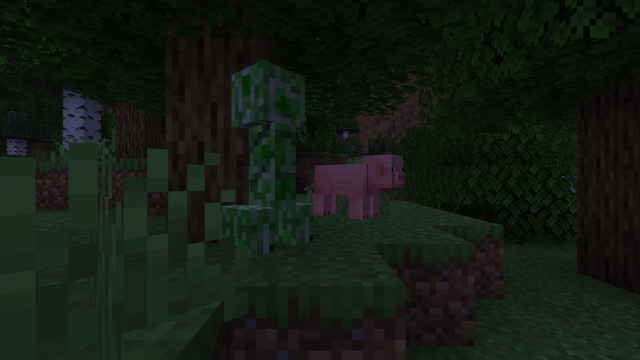cochons: (322, 162, 379, 219)
creepers: (226, 53, 301, 251)
